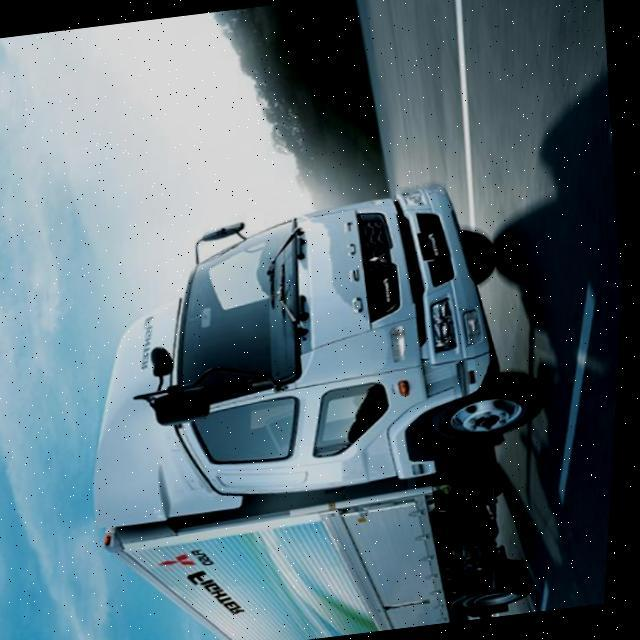truck: (53, 165, 586, 640)
